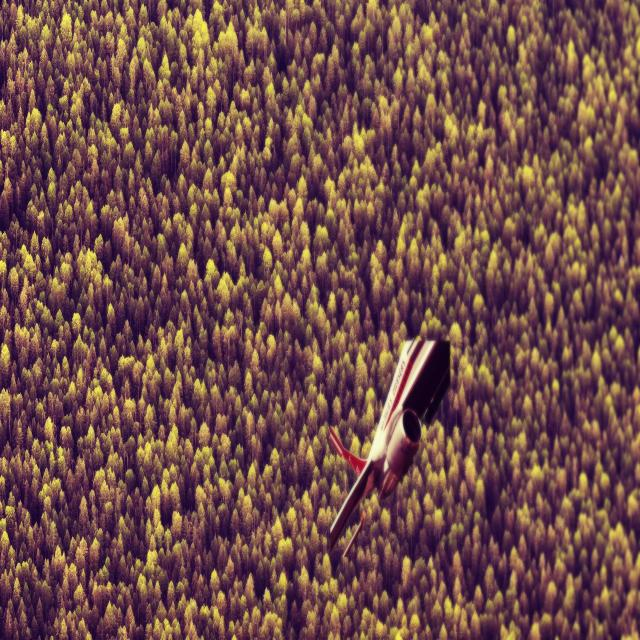airplane: (326, 335, 451, 565)
